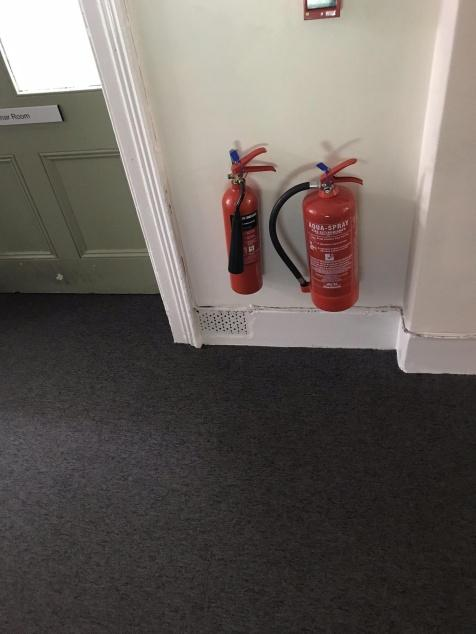APAR: (301, 157, 365, 314), (222, 144, 276, 295)
